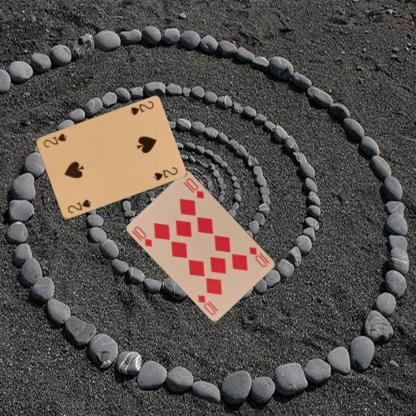10d: (129, 223, 154, 248), (246, 244, 268, 269)
2s: (65, 197, 92, 215), (128, 99, 155, 117)
